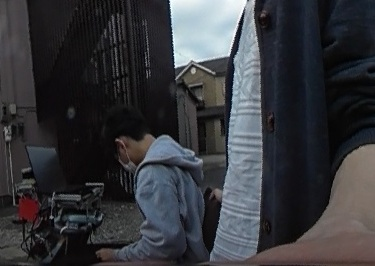person: (67, 99, 210, 266)
